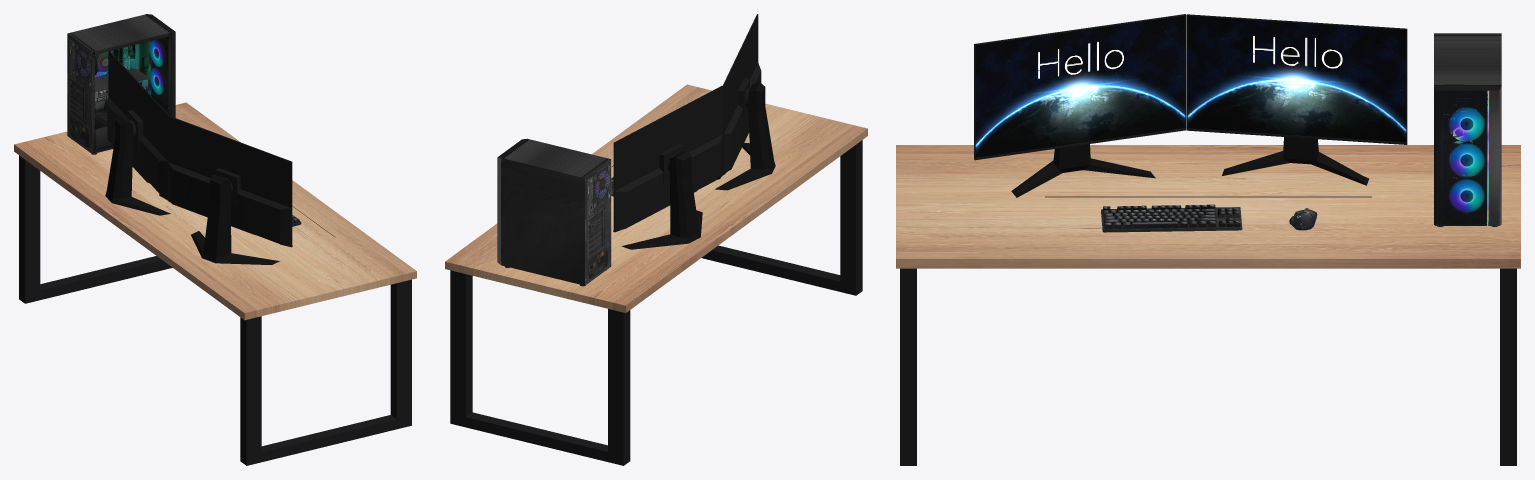
The model's file is desk_2.glb.
3 renders of one model, left to right at view 1: azimuth 30°, elevation 25°; view 2: azimuth 150°, elevation 25°; view 3: azimuth 270°, elevation 25°, orthographic. The views are drawn at different scales.
Visible parts, largest first — view 1: Plane_0, Plane001_1, Cylinder001_5, Plane002_2, Cylinder_3, Cube002_6, Cube001_4; view 2: Plane_0, Plane001_1, Plane002_2, Cylinder_3, Cylinder001_5, Cube001_4, Cube002_6; view 3: Plane_0, Cylinder_3, Cylinder001_5, Plane002_2, Plane001_1, Plane003_7, Cube001_4, Cube002_6, Plane005_9.
Part boxes in pixels (box(x1,y1,x2,y2)): Plane_0: box(14, 102, 416, 320); Plane001_1: box(19, 155, 411, 465); Cylinder001_5: box(168, 116, 292, 247); Plane002_2: box(67, 14, 175, 154); Cylinder_3: box(107, 50, 168, 200); Cube002_6: box(191, 175, 279, 264); Cube001_4: box(105, 115, 170, 215); Plane_0: box(445, 84, 867, 312); Plane001_1: box(450, 140, 862, 465); Plane002_2: box(497, 138, 611, 286); Cylinder_3: box(613, 86, 722, 232); Cylinder001_5: box(722, 14, 761, 175); Cube001_4: box(621, 150, 702, 249); Cube002_6: box(715, 82, 775, 190); Plane_0: box(896, 145, 1520, 268); Cylinder_3: box(1186, 14, 1407, 144); Cylinder001_5: box(974, 14, 1186, 160); Plane002_2: box(1434, 33, 1501, 226); Plane001_1: box(900, 268, 1516, 465); Plane003_7: box(1101, 204, 1242, 232); Cube001_4: box(1222, 137, 1368, 185); Cube002_6: box(1011, 144, 1155, 197); Plane005_9: box(1045, 196, 1371, 197).
Bounding box in the file's own units: 1.05 × 1.56 × 2.45.
11 materials, 7 textured.
